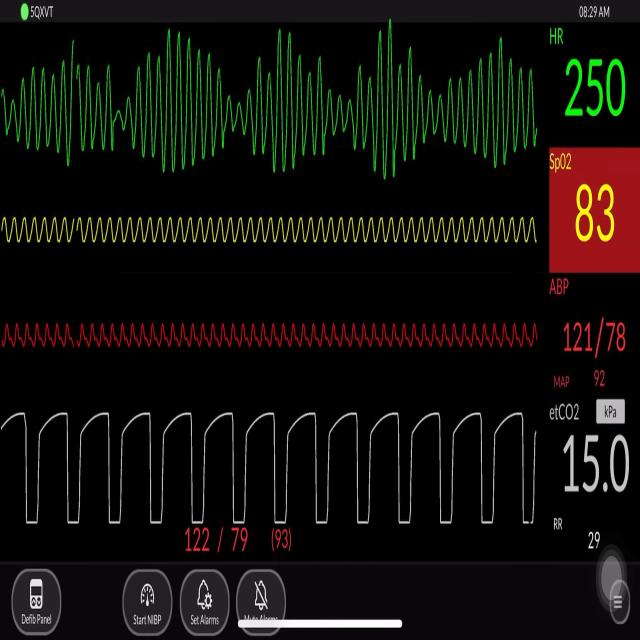danger: (9, 40, 537, 178)
